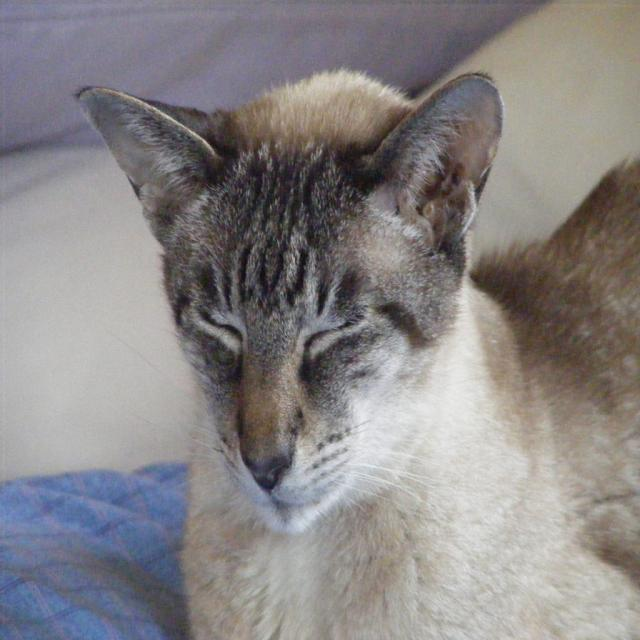Cat: (70, 68, 639, 639)
